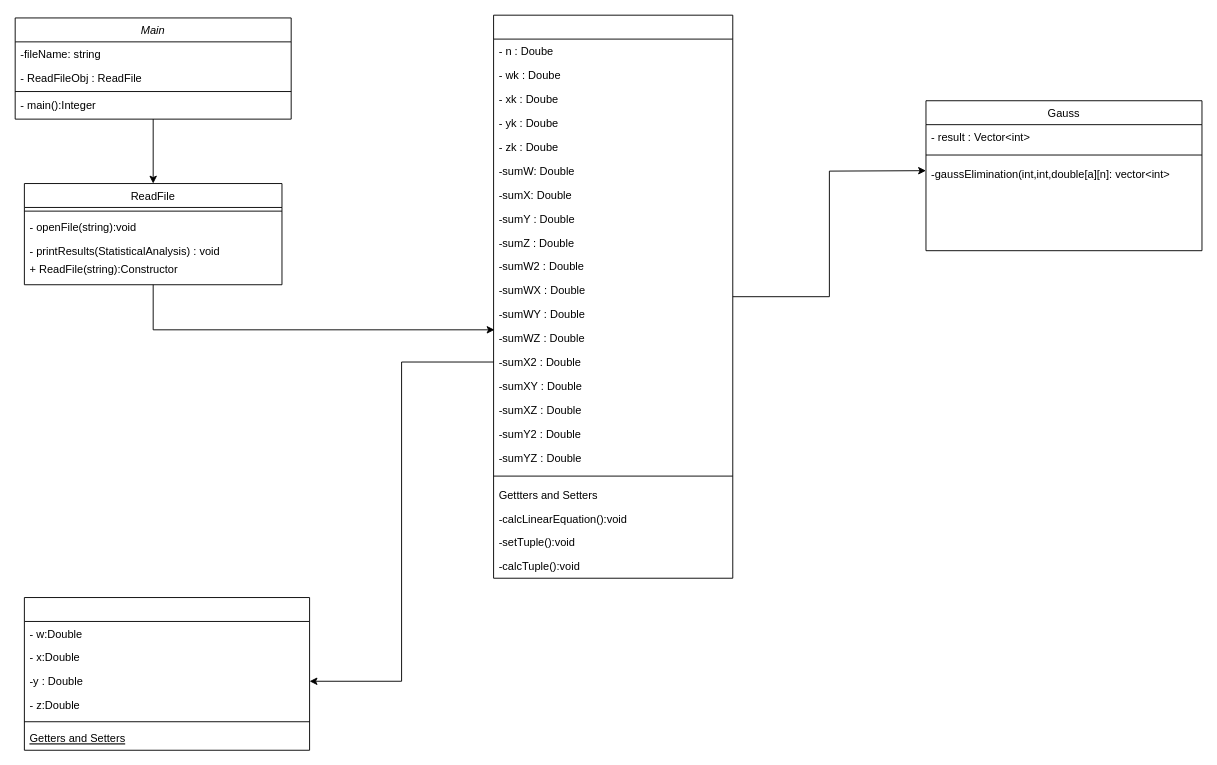
Image size: 1217x765. Some labels were removed from this diagram. The box of each missing label's shape, as (x1, y1, x2, y2) in pixels:
Multiple Regression: (493, 14, 733, 578)
Tuple: (23, 597, 310, 750)
